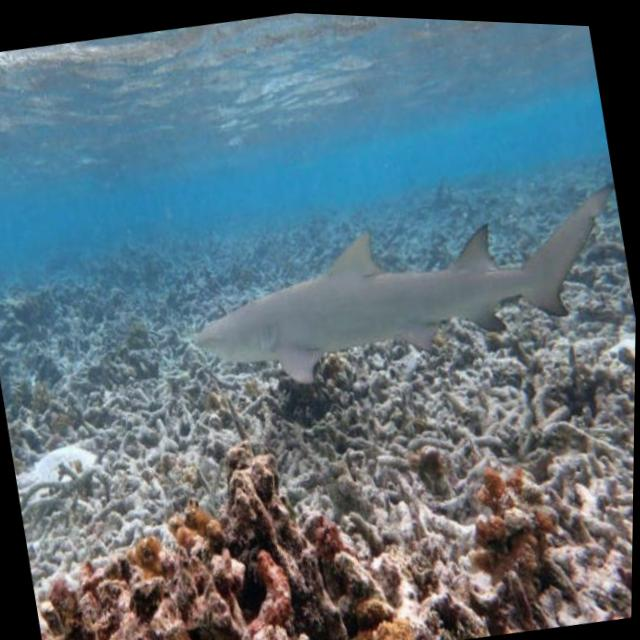Dead Coral: (3, 286, 635, 584)
